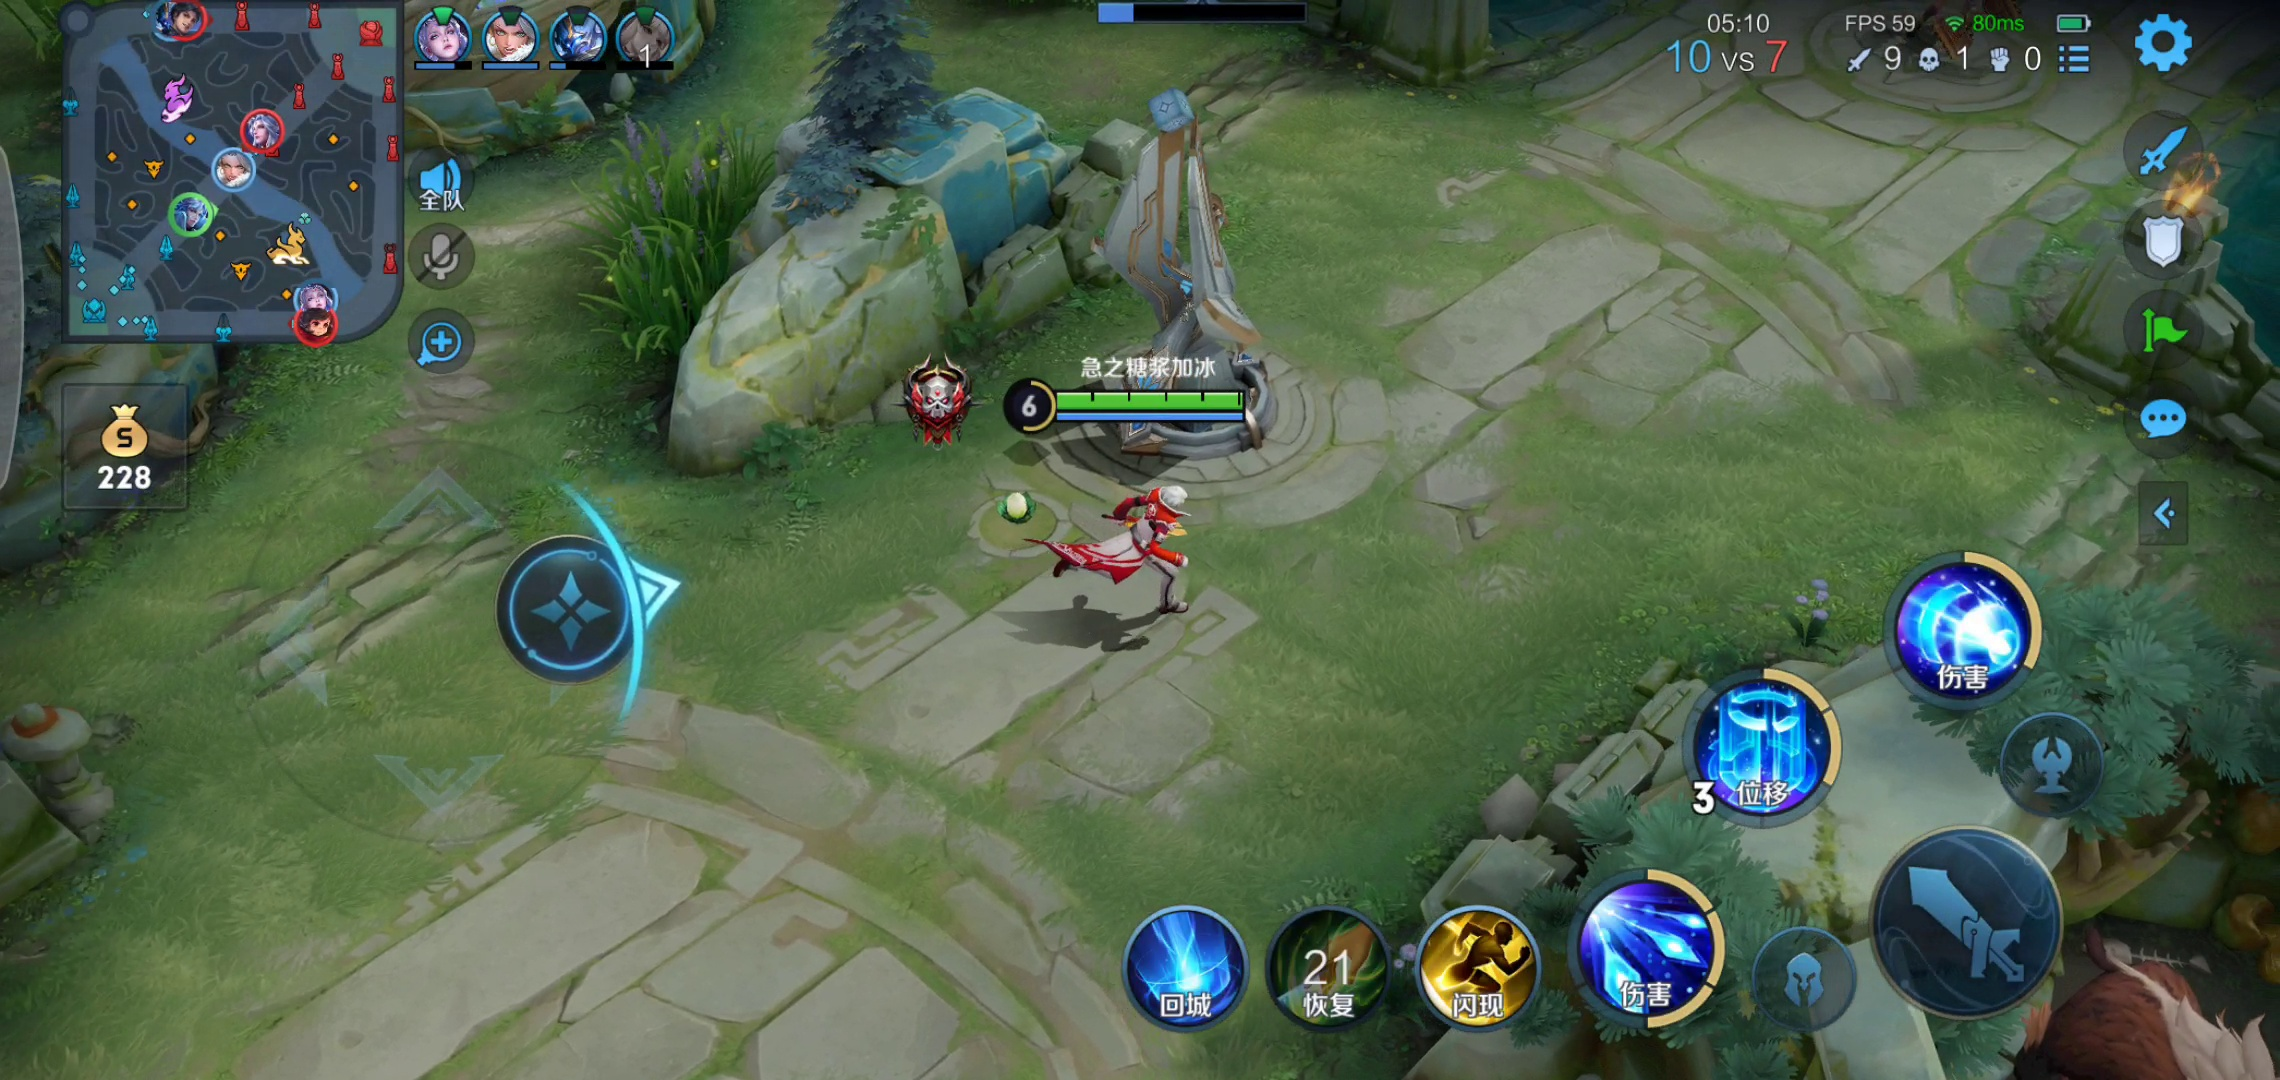grass: (595, 125, 746, 369)
hero: (1061, 480, 1235, 640)
tower: (1051, 90, 1296, 442)
wild_monster: (2078, 906, 2273, 1079)
